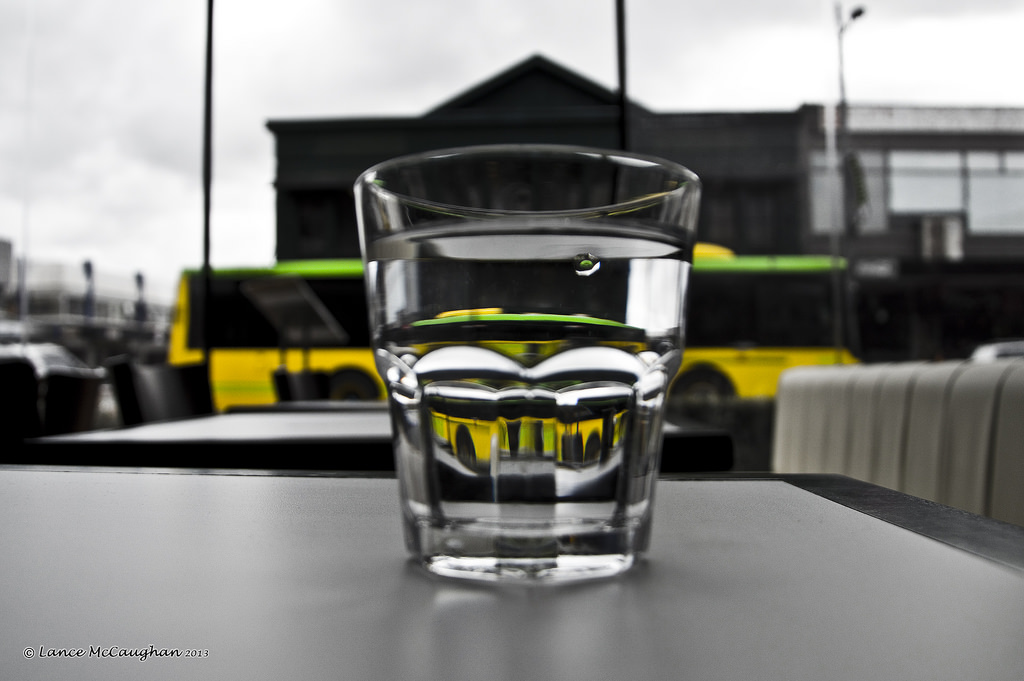glass of water: (348, 154, 693, 582)
